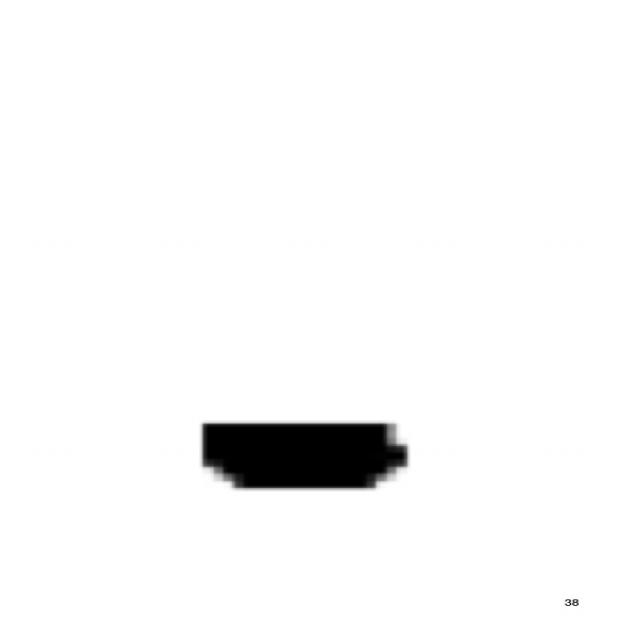0 -zero-: (186, 407, 416, 502)
